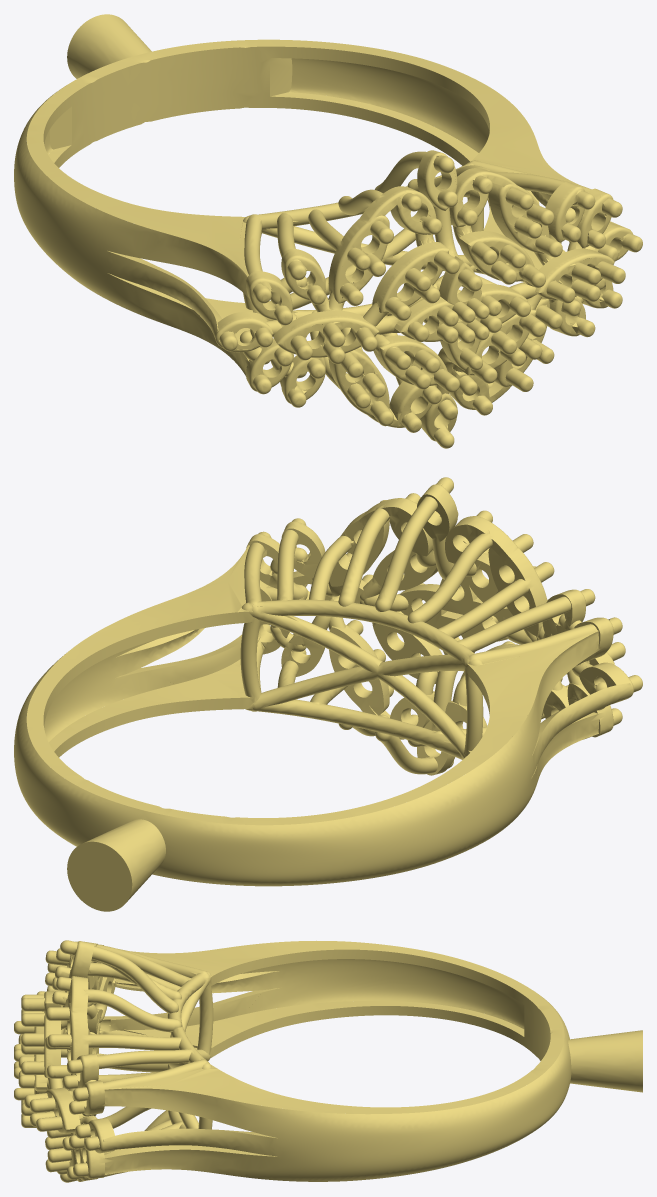
File: mum_06.glb
3 renders of one model, top to bottom at view 1: azimuth 30°, elevation 25°; view 2: azimuth 150°, elevation 25°; view 3: azimuth 270°, elevation 25°, orthographic. The views are drawn at different scales.
Visible parts, largest first — view 1: Renderer Node; view 2: Renderer Node; view 3: Renderer Node.
Part boxes in pixels (x1=…): Renderer Node: x1=14, y1=14, x2=642, y2=448; Renderer Node: x1=14, y1=477, x2=642, y2=911; Renderer Node: x1=14, y1=940, x2=642, y2=1182.
Bounding box in the file's own units: 20.84 × 12.91 × 30.5.
